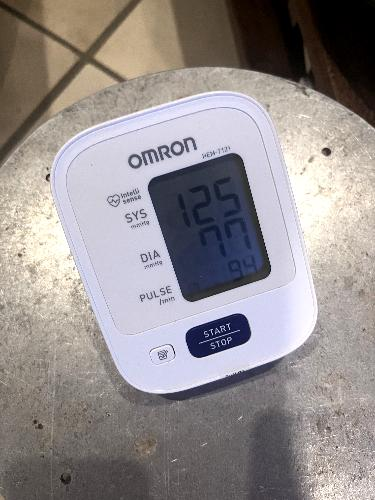bpm: (144, 151, 279, 306)
